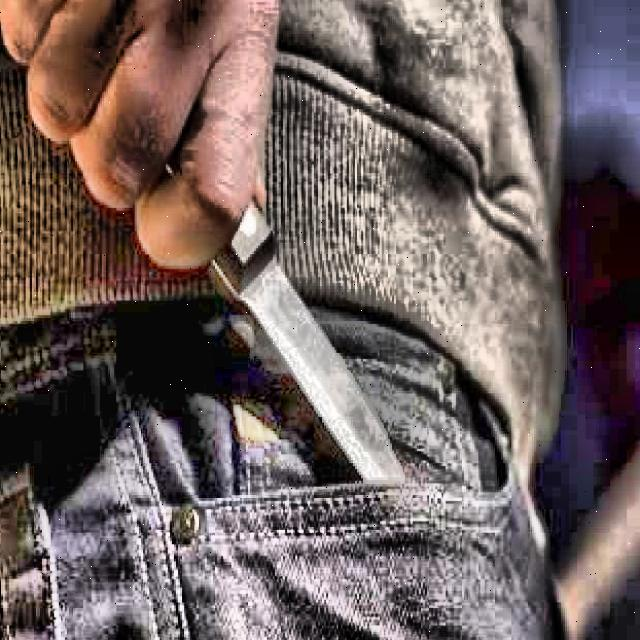knife: (170, 160, 406, 480)
